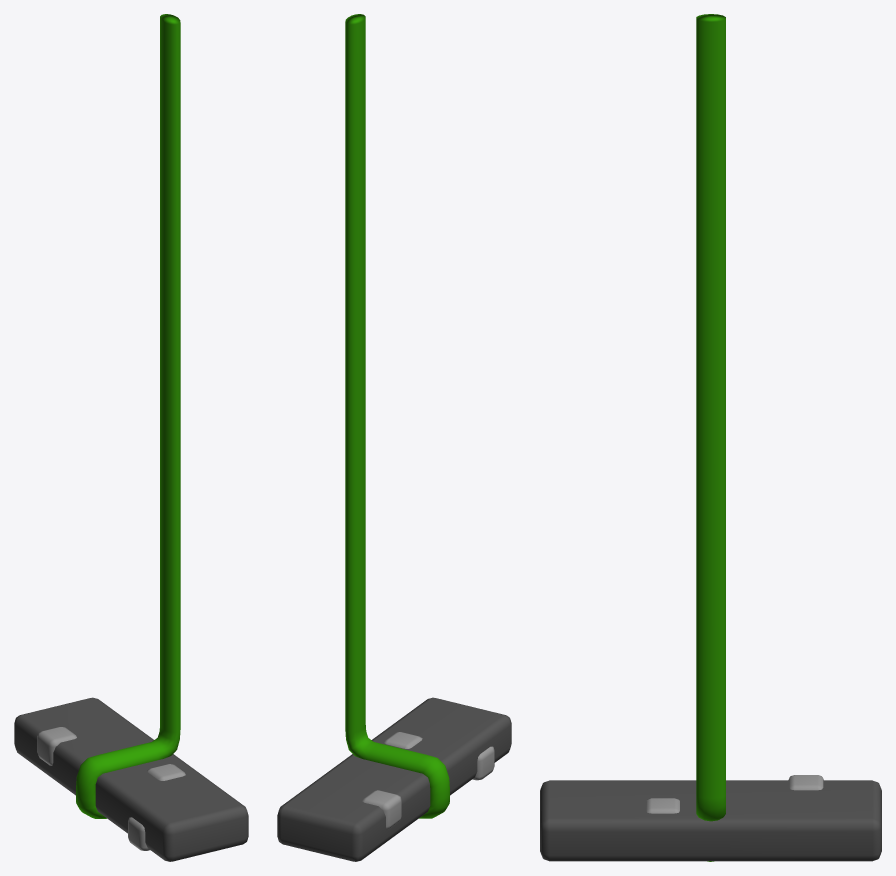
File: PlatformRockMoving.fbx
3 renders of one model, left to right at view 1: azimuth 30°, elevation 25°; view 2: azimuth 150°, elevation 25°; view 3: azimuth 270°, elevation 25°, orthographic. The views are drawn at different scales.
Visible parts, largest first — view 1: pCylinder3, pCube1, pCube2, pCube4; view 2: pCylinder3, pCube1, pCube2, pCube4; view 3: pCube1, pCylinder3.
Part boxes in pixels (x1,y1,x2,y2): pCylinder3: [76, 14, 180, 818]; pCube1: [14, 697, 248, 861]; pCube2: [37, 727, 76, 765]; pCube4: [128, 817, 149, 850]; pCylinder3: [345, 14, 449, 818]; pCube1: [277, 697, 511, 861]; pCube2: [362, 790, 401, 829]; pCube4: [472, 746, 494, 780]; pCube1: [540, 780, 881, 861]; pCylinder3: [696, 14, 725, 861].
Size of the model in its own units: 2.8 by 20.98 by 7.58.
